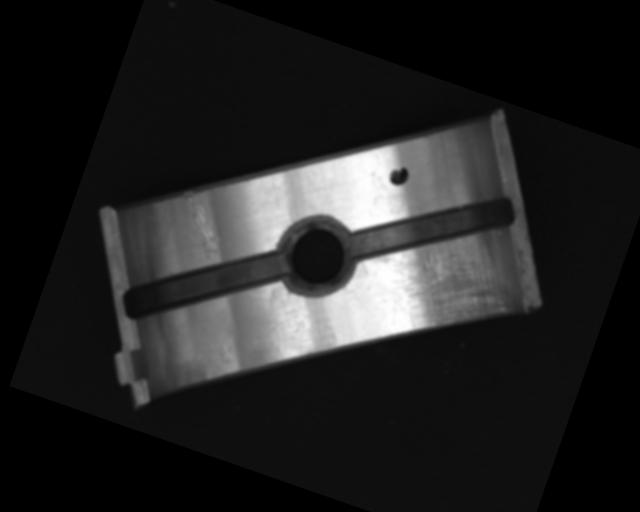blot: (387, 163, 412, 188)
bruise: (216, 341, 239, 367)
gap: (115, 209, 291, 361), (346, 156, 519, 302)
hole: (266, 207, 365, 307)
nick: (166, 187, 235, 262)
scratch: (359, 207, 532, 362)
